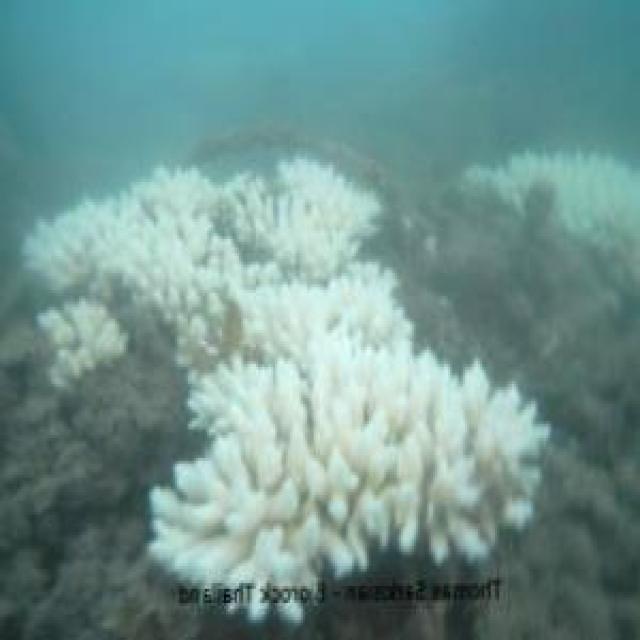bleached coral: (151, 353, 546, 584), (26, 158, 379, 328), (176, 262, 412, 367), (466, 153, 640, 259), (28, 199, 177, 282), (305, 267, 414, 358), (275, 165, 371, 267), (151, 538, 316, 597), (192, 344, 301, 424), (39, 298, 128, 388), (196, 196, 277, 284), (303, 444, 369, 552), (420, 395, 482, 509), (555, 162, 640, 236), (179, 427, 256, 503), (335, 378, 380, 427)
